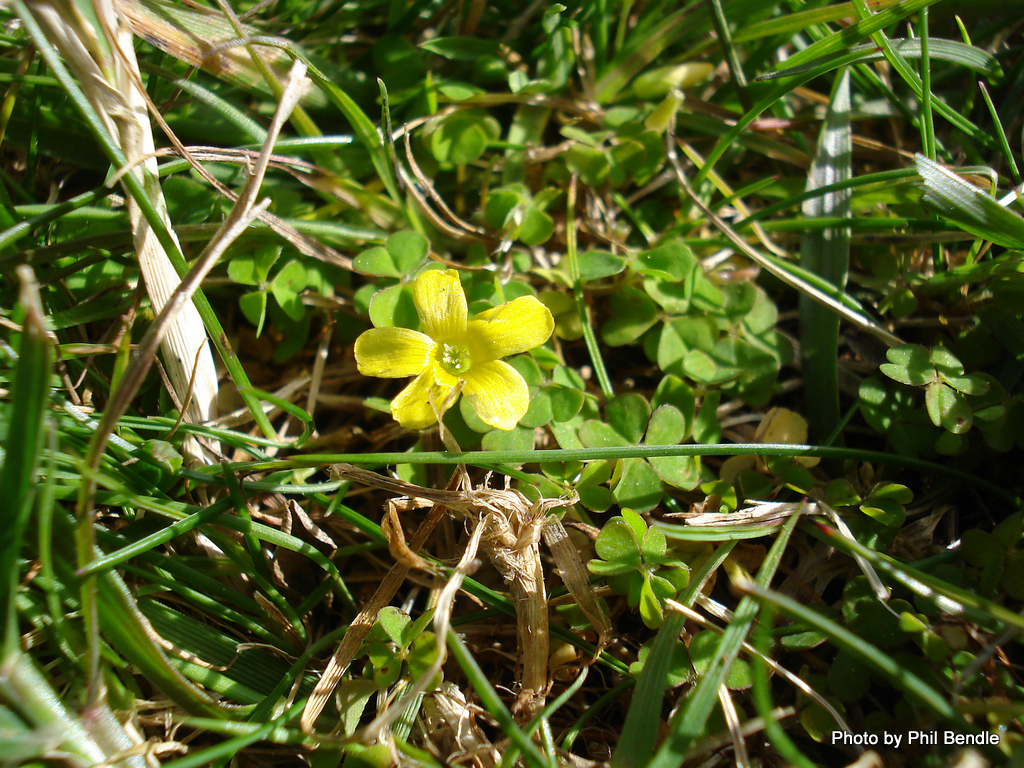oxalis: (551, 404, 737, 612), (586, 225, 789, 395), (226, 217, 450, 321), (358, 607, 459, 690)
